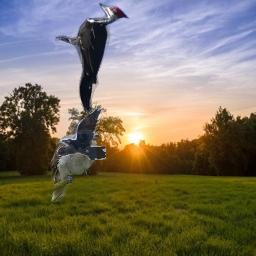Crow: (56, 107, 106, 160)
Cuckoo: (49, 128, 101, 202)
Woodpecker: (55, 2, 130, 113)
